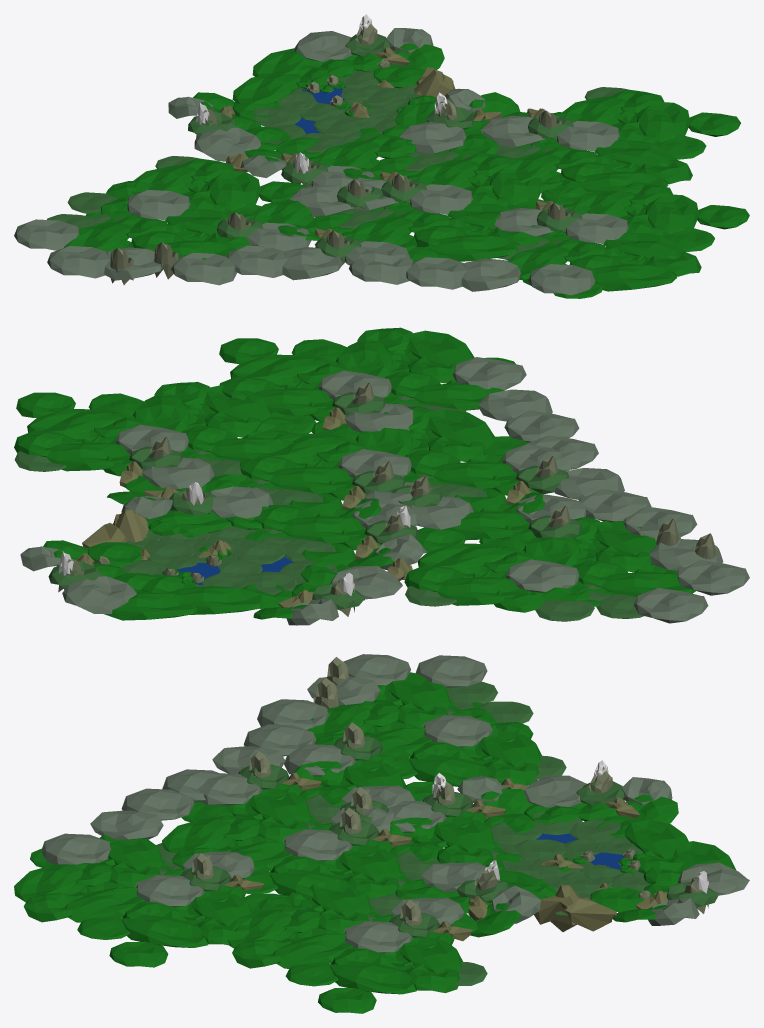
Rendered from LANDBOX_land_ForMesh.FBX.
The picture shows the model from 3 angles, top to bottom: view 1: azimuth 30°, elevation 25°; view 2: azimuth 150°, elevation 25°; view 3: azimuth 270°, elevation 25°; orthographic projection. The views are drawn at different scales.
Visible parts, largest first — view 1: GeoSphere207; view 2: GeoSphere207; view 3: GeoSphere207.
Part boxes in pixels (x1=…): GeoSphere207: x1=14, y1=14, x2=749, y2=298; GeoSphere207: x1=14, y1=327, x2=749, y2=625; GeoSphere207: x1=14, y1=654, x2=749, y2=1013.
Size of the model in its own units: 95.85 by 6.95 by 84.37.
